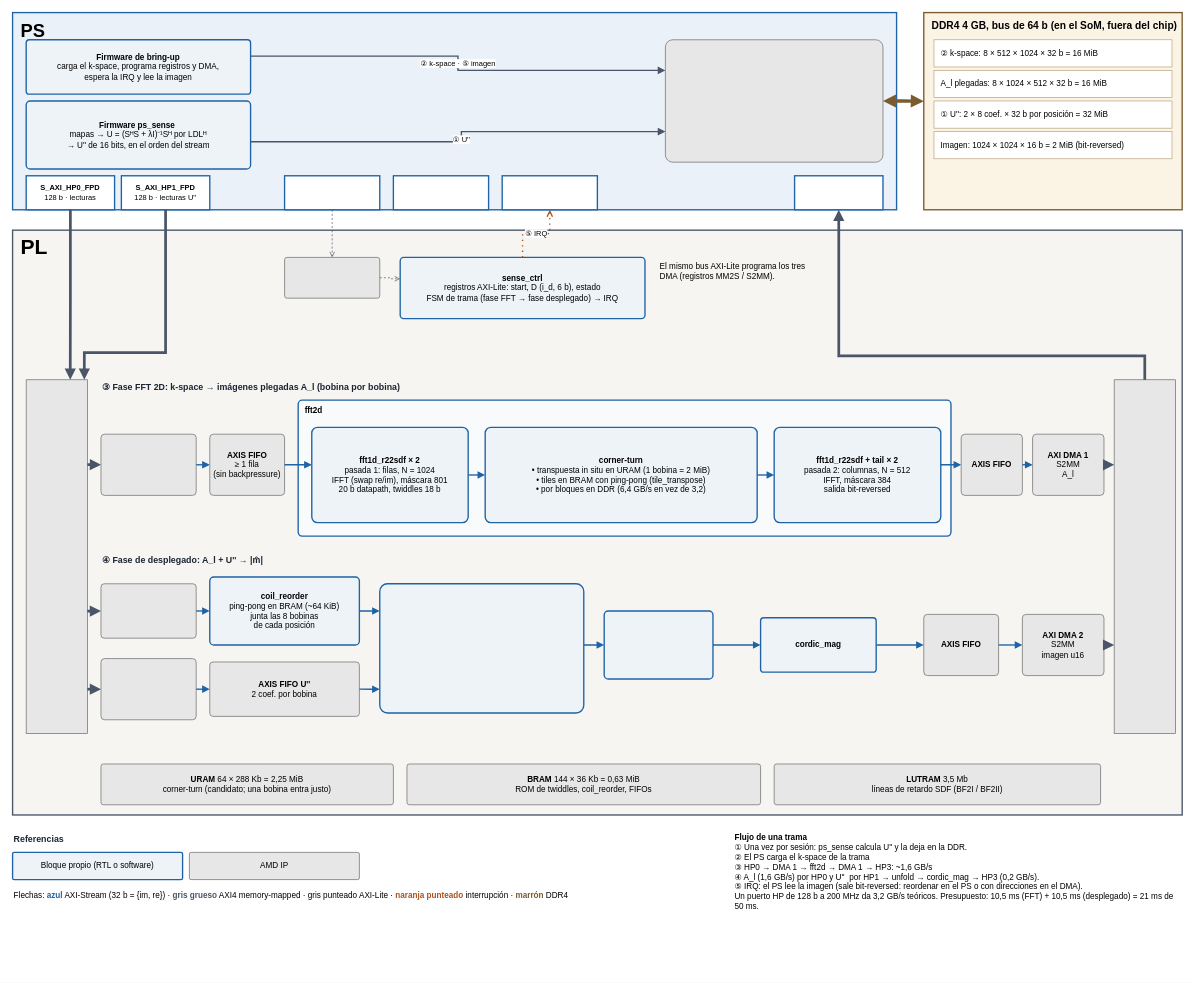
This 1194x983 diagram has some shape labels left out. The shapes that lost their labels are listed below. From the top down, each one's centre as x and y in pixels, then its label:
At pixel 774 100: "DDRC DDR a 2133 MT/s: pico ≈ 17 GB/s Port3 ← HP0 Port4 ← HP1 + HP2 Port5 ← HP3".
At pixel 332 192: "M_AXI_HPM0_LPD AXI-Lite → PL".
At pixel 440 192: "pl_clk0 = 200 MHz pl_resetn0".
At pixel 549 192: "pl_ps_irq0 trama lista".
At pixel 838 192: "S_AXI_HP3_FPD 128 b · escrituras".
At pixel 332 277: "SmartConnect control (AXI-Lite)".
At pixel 148 464: "AXI DMA 1 MM2S k-space".
At pixel 56 556: "SmartConnect lecturas · AXI4 128 b → HP0, HP1".
At pixel 1144 556: "SmartConnect escrituras · AXI4 128 b → HP3".
At pixel 148 610: "AXI DMA 2 MM2S A_l por bloques".
At pixel 481 648: "unfold × 2 carriles 1 bobina por ciclo, 2 MAC en paralelo P = Σ U''·A".
At pixel 658 644: "mag_mux 2 carriles × 2 valores → 1 por ciclo".
At pixel 148 689: "AXI DMA 3 MM2S U'' (32 MiB/trama)".
